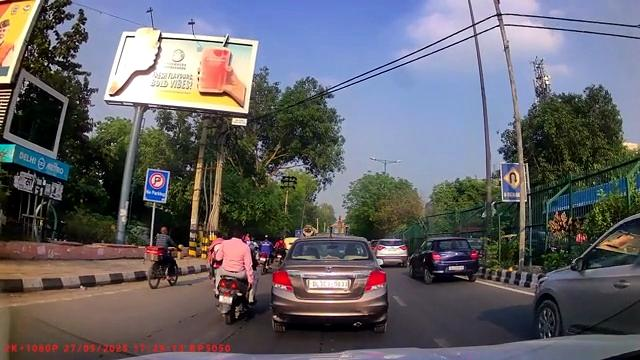passenger_without_helmet: (218, 227, 259, 324)
